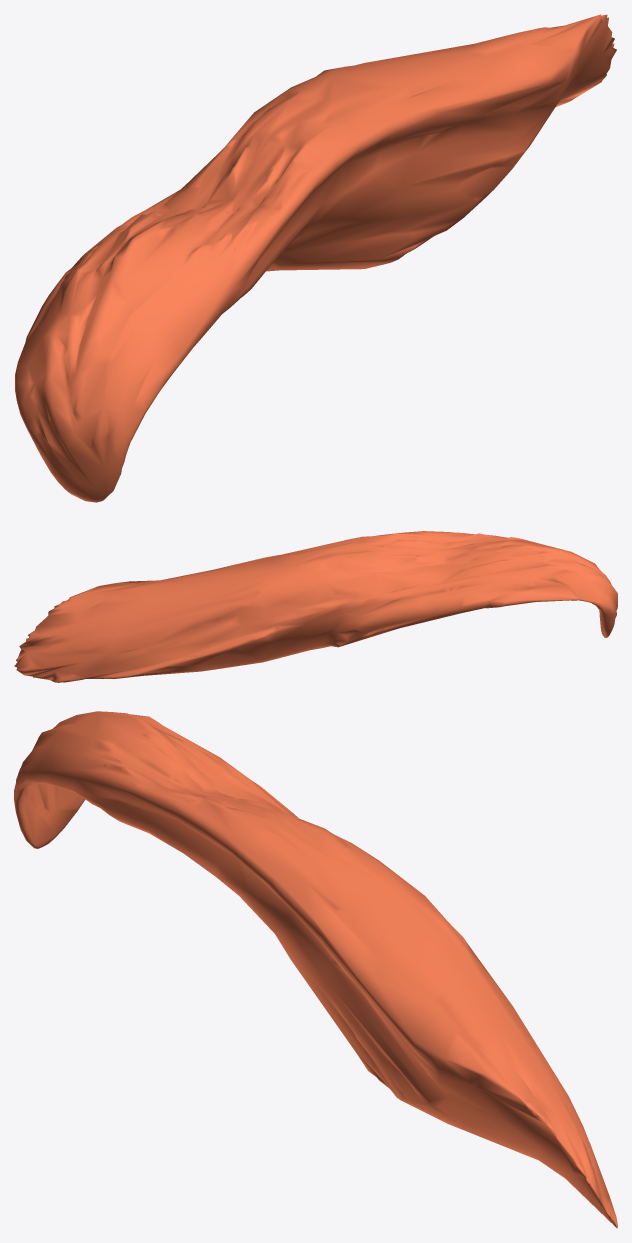
The model's file is Supraspinatus_muscle.r_Generated_Mesh_From_X3D.170.glb.
3 renders of one model, top to bottom at view 1: azimuth 30°, elevation 25°; view 2: azimuth 150°, elevation 25°; view 3: azimuth 270°, elevation 25°, orthographic. The views are drawn at different scales.
Parts seen in each view (by area): view 1: Supraspinatus_muscle.r_Generated_Mesh_From_X3D.170; view 2: Supraspinatus_muscle.r_Generated_Mesh_From_X3D.170; view 3: Supraspinatus_muscle.r_Generated_Mesh_From_X3D.170.
Boxes of the visible parts, box(x1,y1,x2,y2) form: Supraspinatus_muscle.r_Generated_Mesh_From_X3D.170: box(15, 14, 616, 502); Supraspinatus_muscle.r_Generated_Mesh_From_X3D.170: box(14, 531, 617, 682); Supraspinatus_muscle.r_Generated_Mesh_From_X3D.170: box(14, 711, 617, 1228).
Bounding box in the file's own units: 0.125 × 0.0327 × 0.0847.
